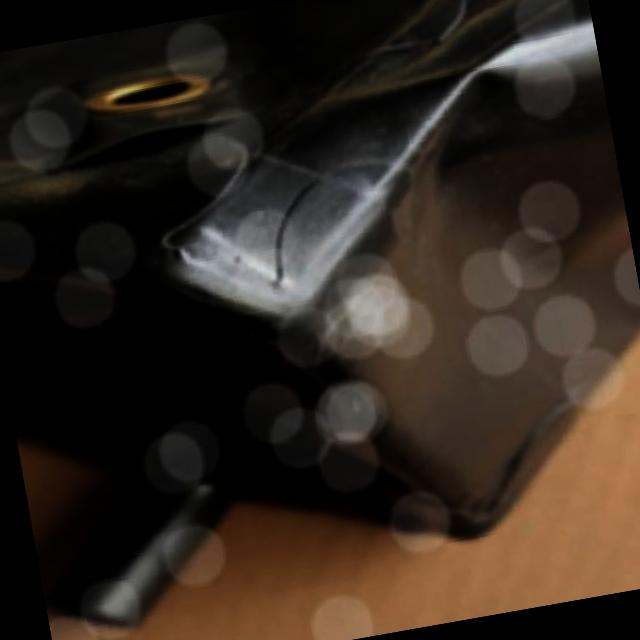crack: (242, 176, 342, 314)
